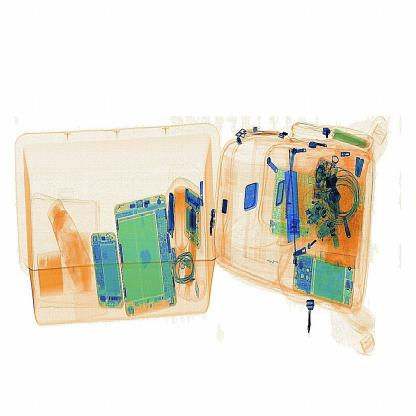pliers: (275, 164, 309, 256)
